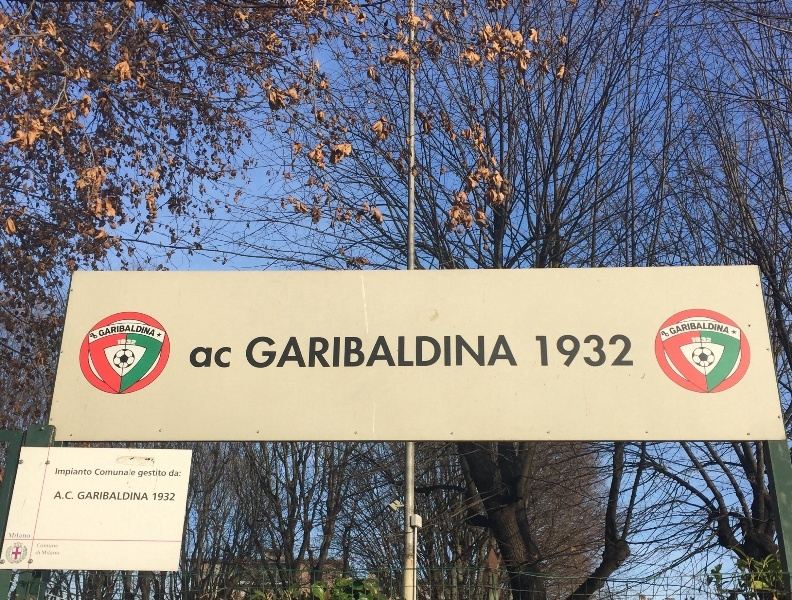text: (257, 336, 272, 369), (273, 336, 288, 369), (289, 336, 304, 369), (305, 336, 320, 369), (321, 336, 336, 369), (337, 336, 352, 369), (353, 336, 368, 369), (369, 336, 384, 369), (385, 336, 400, 369), (401, 336, 416, 369), (417, 336, 432, 369), (433, 336, 448, 369), (449, 336, 464, 369), (465, 336, 480, 369), (481, 336, 496, 369), (497, 336, 512, 369), (545, 335, 560, 368), (561, 335, 576, 368), (577, 335, 592, 368), (593, 335, 608, 368), (609, 335, 624, 368), (193, 347, 208, 370), (209, 347, 224, 370), (247, 336, 256, 369), (625, 335, 634, 368), (113, 318, 128, 337), (129, 318, 144, 337), (673, 317, 688, 335), (689, 317, 704, 335), (705, 317, 720, 335), (536, 335, 544, 368), (99, 318, 112, 337), (145, 318, 157, 337), (513, 336, 518, 369), (225, 347, 231, 370), (145, 469, 160, 478), (81, 492, 96, 501), (97, 492, 112, 501), (113, 492, 128, 501), (129, 492, 144, 501), (721, 317, 728, 335), (65, 469, 80, 477), (161, 493, 175, 501), (97, 469, 112, 476), (113, 469, 128, 476), (690, 337, 704, 344), (81, 469, 92, 477), (17, 533, 30, 539), (668, 317, 672, 335), (117, 339, 128, 345), (56, 469, 64, 477), (36, 550, 48, 555), (153, 493, 160, 501), (65, 492, 73, 499), (661, 331, 672, 336), (49, 550, 60, 555), (38, 543, 48, 548), (129, 469, 136, 476), (129, 339, 137, 345), (139, 469, 144, 478), (161, 469, 166, 478), (49, 543, 58, 548), (705, 337, 711, 344), (58, 492, 64, 499), (170, 470, 176, 476), (10, 533, 16, 539), (664, 333, 672, 337), (90, 333, 96, 338), (145, 492, 148, 501), (43, 550, 48, 555), (177, 470, 181, 476), (93, 335, 96, 339), (79, 492, 80, 501), (97, 335, 98, 339)
